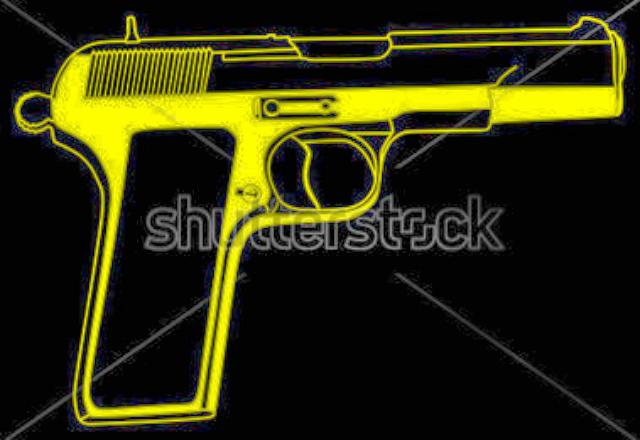pistol: (16, 5, 624, 425)
